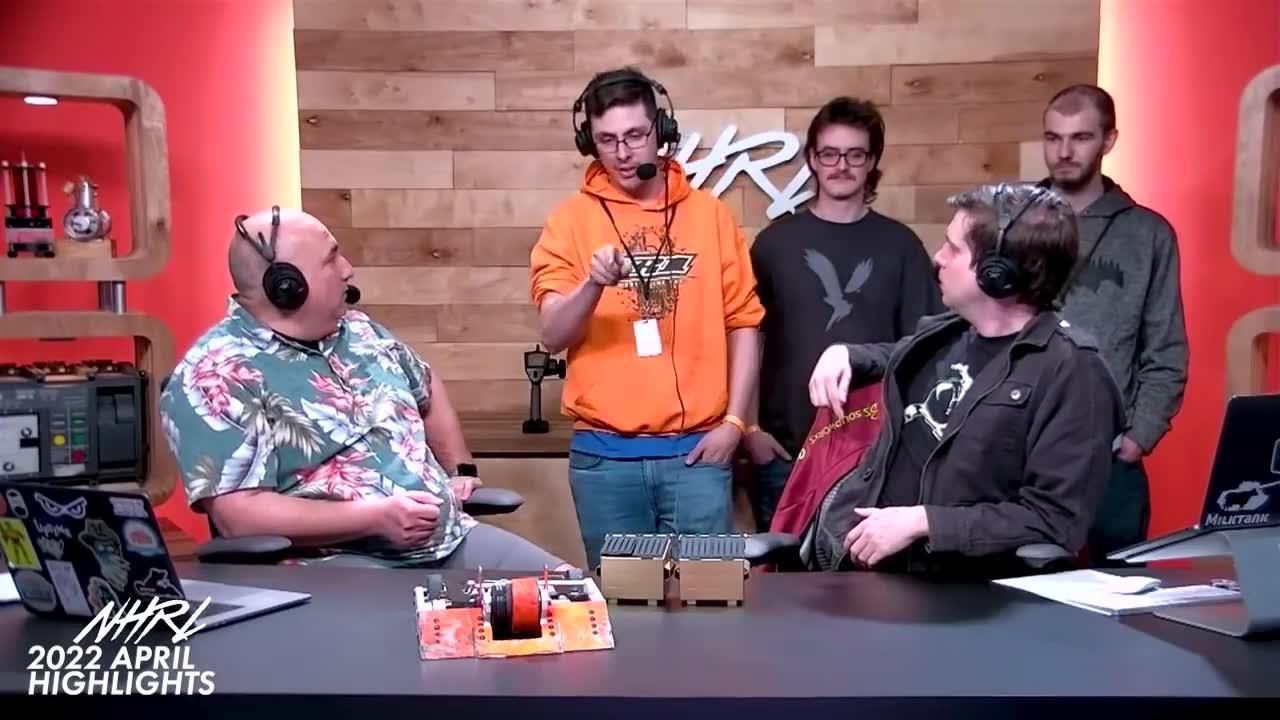combatbot: (411, 565, 615, 662)
